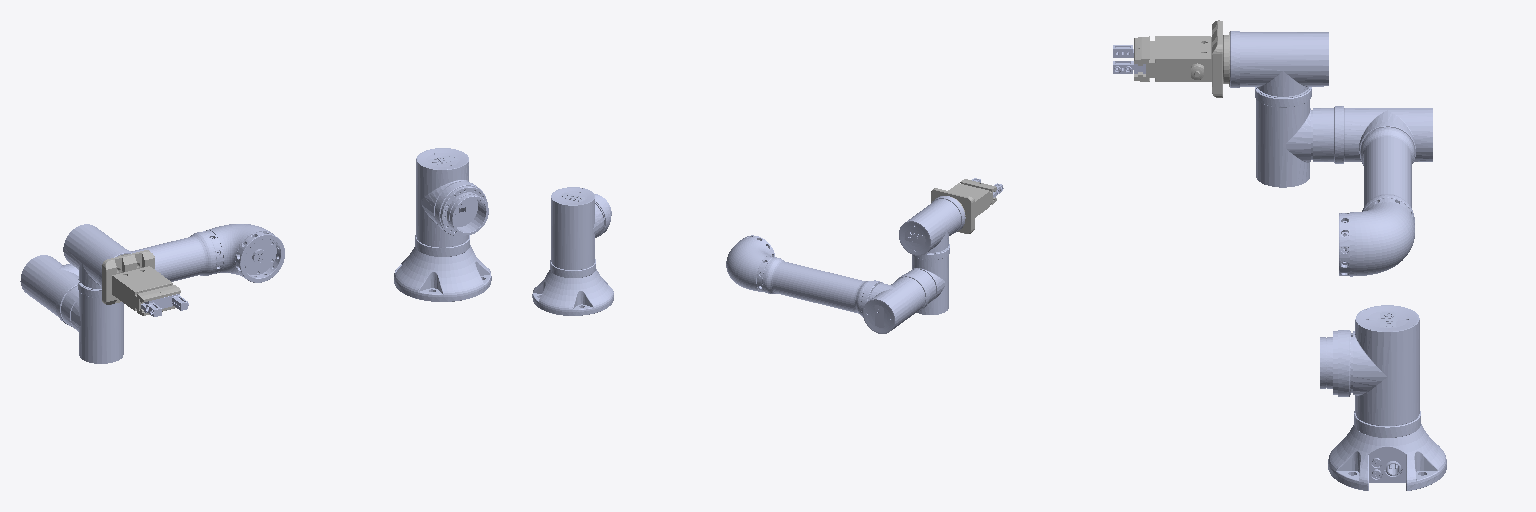
robot.urdf — CPC_arm:
<?xml version="1.0" encoding="utf-8"?>
<!-- This URDF was automatically created by SolidWorks to URDF Exporter! Originally created by Stephen Brawner (brawner@gmail.com) 
     Commit Version: 1.6.0-4-g7f85cfe  Build Version: 1.6.7995.38578
     For more information, please see http://wiki.ros.org/sw_urdf_exporter -->
<robot
  name="CPC_arm">
  <link
    name="base_link">
    <inertial>
      <origin
        xyz="-0.0224 -0.0006 0.2089"
        rpy="0 0 0" />
      <mass
        value="0.63188" />
      <inertia
        ixx="0.102289815"
        ixy="0.00076332"
        ixz="-0.002640239"
        iyy="0.092973861"
        iyz="-0.000256084"
        izz="0.103785739" />
    </inertial>
    <visual>
      <origin
        xyz="0 0 0"
        rpy="0 0 0" />
      <geometry>
        <mesh
          filename="../meshes/base_link.STL" />
      </geometry>
      <material
        name="">
        <color
          rgba="0.792156862745098 0.819607843137255 0.933333333333333 1" />
      </material>
    </visual>
    <collision>
      <origin
        xyz="0 0 0"
        rpy="0 0 0" />
      <geometry>
        <mesh
          filename="../meshes/base_link.STL" />
      </geometry>
    </collision>
  </link>
  <link
    name="link1">
    <inertial>
      <origin
        xyz="-0.0001172 -0.0038262 -0.0125403"
        rpy="0 0 0" />
      <mass
        value="1.12835" />
      <inertia
        ixx="0.00159391"
        ixy="0.00000759"
        ixz="-0.00000421"
        iyy="0.00152794"
        iyz="0.0000062"
        izz="0.00079827" />
    </inertial>
    <visual>
      <origin
        xyz="0 0 0"
        rpy="0 0 0" />
      <geometry>
        <mesh
          filename="../meshes/link1.STL" />
      </geometry>
      <material
        name="">
        <color
          rgba="0.792156862745098 0.819607843137255 0.933333333333333 1" />
      </material>
    </visual>
    <collision>
      <origin
        xyz="0 0 0"
        rpy="0 0 0" />
      <geometry>
        <mesh
          filename="../meshes/link1.STL" />
      </geometry>
    </collision>
  </link>
  <joint
    name="j1"
    type="revolute">
    <origin
      xyz="0.0070036 0 0.11343"
      rpy="0 0 0" />
    <parent
      link="base_link" />
    <child
      link="link1" />
    <axis
      xyz="0 0 1" />
    <limit
      lower="-6.28"
      upper="6.28"
      effort="147"
      velocity="6.28" />
    <dynamics
      damping="1"
      friction="4.41" />
  </joint>
  <link
    name="link2">
    <inertial>
      <origin
        xyz="-0.14309968 -0.00000222 0.01087225"
        rpy="0 0 0" />
      <mass
        value="2.71154" />
      <inertia
        ixx="0.00335039"
        ixy="-0.00001258"
        ixz="-0.00418653"
        iyy="0.10476835"
        iyz="-0.00000003"
        izz="0.10302838" />
    </inertial>
    <visual>
      <origin
        xyz="0 0 0"
        rpy="0 0 0" />
      <geometry>
        <mesh
          filename="../meshes/link2.STL" />
      </geometry>
      <material
        name="">
        <color
          rgba="0.792156862745098 0.819607843137255 0.933333333333333 1" />
      </material>
    </visual>
    <collision>
      <origin
        xyz="0 0 0"
        rpy="0 0 0" />
      <geometry>
        <mesh
          filename="../meshes/link2.STL" />
      </geometry>
    </collision>
  </link>
  <joint
    name="j2"
    type="revolute">
    <origin
      xyz="0 -0.106 0"
      rpy="-1.5708 0 0" />
    <parent
      link="link1" />
    <child
      link="link2" />
    <axis
      xyz="0 0 1" />
    <limit
      lower="-6.28"
      upper="6.28"
      effort="147"
      velocity="6.28" />
    <dynamics
      damping="1"
      friction="4.41" />
  </joint>
  <link
    name="link3">
    <inertial>
      <origin
        xyz="-0.17902463 0.00003247 -0.00767604"
        rpy="0 0 0" />
      <mass
        value="1.4489978" />
      <inertia
        ixx="0.00118048"
        ixy="-0.00001133"
        ixz="0.00177917"
        iyy="0.06408886"
        iyz="-0.00000068"
        izz="0.06361472" />
    </inertial>
    <visual>
      <origin
        xyz="0 0 0"
        rpy="0 0 0" />
      <geometry>
        <mesh
          filename="../meshes/link3.STL" />
      </geometry>
      <material
        name="">
        <color
          rgba="0.792156862745098 0.819607843137255 0.933333333333333 1" />
      </material>
    </visual>
    <collision>
      <origin
        xyz="0 0 0"
        rpy="0 0 0" />
      <geometry>
        <mesh
          filename="../meshes/link3.STL" />
      </geometry>
    </collision>
  </link>
  <joint
    name="j3"
    type="revolute">
    <origin
      xyz="-0.284 0 0.106"
      rpy="0 0 0" />
    <parent
      link="link2" />
    <child
      link="link3" />
    <axis
      xyz="0 0 1" />
    <limit
      lower="-6.28"
      upper="6.28"
      effort="147"
      velocity="6.28" />
    <dynamics
      damping="1"
      friction="4.41" />
  </joint>
  <link
    name="link4">
    <inertial>
      <origin
        xyz="0.00003782 -0.01056578 0.04621724"
        rpy="0 0 0" />
      <mass
        value="1.373096" />
      <inertia
        ixx="0.01143465"
        ixy="-0.00000522"
        ixz="-0.00000008"
        iyy="0.01050102"
        iyz="-0.00000229"
        izz="0.00150302" />
    </inertial>
    <visual>
      <origin
        xyz="0 0 0"
        rpy="0 0 0" />
      <geometry>
        <mesh
          filename="../meshes/link4.STL" />
      </geometry>
      <material
        name="">
        <color
          rgba="0.792156862745098 0.819607843137255 0.933333333333333 1" />
      </material>
    </visual>
    <collision>
      <origin
        xyz="0 0 0"
        rpy="0 0 0" />
      <geometry>
        <mesh
          filename="../meshes/link4.STL" />
      </geometry>
    </collision>
  </link>
  <joint
    name="j4"
    type="revolute">
    <origin
      xyz="-0.262 0 -0.1055"
      rpy="0 0 0" />
    <parent
      link="link3" />
    <child
      link="link4" />
    <axis
      xyz="0 0 1" />
    <limit
      lower="-6.28"
      upper="6.28"
      effort="206"
      velocity="6.28" />
    <dynamics
      damping="1"
      friction="6.17" />
  </joint>
  <link
    name="link5">
    <inertial>
      <origin
        xyz="-0.00003079 -0.00420127 -0.0446452"
        rpy="0 0 0" />
      <mass
        value="1.102075" />
      <inertia
        ixx="0.00830005"
        ixy="0.00000002"
        ixz="0.00000051"
        iyy="0.00798747"
        iyz="0.00000412"
        izz="0.00077742" />
    </inertial>
    <visual>
      <origin
        xyz="0 0 0"
        rpy="0 0 0" />
      <geometry>
        <mesh
          filename="../meshes/link5.STL" />
      </geometry>
      <material
        name="">
        <color
          rgba="0.792156862745098 0.819607843137255 0.933333333333333 1" />
      </material>
    </visual>
    <collision>
      <origin
        xyz="0 0 0"
        rpy="0 0 0" />
      <geometry>
        <mesh
          filename="../meshes/link5.STL" />
      </geometry>
    </collision>
  </link>
  <joint
    name="j5"
    type="revolute">
    <origin
      xyz="0 -0.0843 0"
      rpy="1.5708 0 0" />
    <parent
      link="link4" />
    <child
      link="link5" />
    <axis
      xyz="0 0 1" />
    <limit
      lower="-6.28"
      upper="6.28"
      effort="206"
      velocity="6.28" />
    <dynamics
      damping="1"
      friction="6.17" />
  </joint>
  <link
    name="link6">
    <inertial>
      <origin
        xyz="0.00021593 -0.00013489 -0.04486630"
        rpy="0 0 0" />
      <mass
        value="0.411" />
      <inertia
        ixx="0.00118776"
        ixy="-0.00000017"
        ixz="-0.00000410"
        iyy="0.00125861"
        iyz="0.00000079"
        izz="0.00017194" />
    </inertial>
    <visual>
      <origin
        xyz="0 0 0"
        rpy="0 0 0" />
      <geometry>
        <mesh
          filename="../meshes/link6.STL" />
      </geometry>
      <material
        name="">
        <color
          rgba="0.752941176470588 0.752941176470588 0.752941176470588 1" />
      </material>
    </visual>
    <collision>
      <origin
        xyz="0 0 0"
        rpy="0 0 0" />
      <geometry>
        <mesh
          filename="../meshes/link6.STL" />
      </geometry>
    </collision>
  </link>
  <joint
    name="j6"
    type="revolute">
    <origin
      xyz="0 -0.042 0"
      rpy="-1.5708 0 0" />
    <parent
      link="link5" />
    <child
      link="link6" />
    <axis
      xyz="0 0 1" />
    <limit
      lower="-6.28"
      upper="6.28"
      effort="205"
      velocity="6.28" />
    <dynamics
      damping="1"
      friction="6.17" />
  </joint>
  <link
    name="f1">
    <inertial>
      <origin
        xyz="-0.0160823907318424 -0.00228106756590477 -0.0115426550774786"
        rpy="0 0 0" />
      <mass
        value="0.01270168" />
      <inertia
        ixx="0.00000296"
        ixy="0.00000062"
        ixz="0.00000158"
        iyy="0.00000824"
        iyz="0.00000018"
        izz="0.00000561" />
    </inertial>
    <visual>
      <origin
        xyz="0 0 0"
        rpy="0 0 0" />
      <geometry>
        <mesh
          filename="../meshes/f1.STL" />
      </geometry>
      <material
        name="">
        <color
          rgba="0.792156862745098 0.819607843137255 0.933333333333333 1" />
      </material>
    </visual>
    <collision>
      <origin
        xyz="0 0 0"
        rpy="0 0 0" />
      <geometry>
        <mesh
          filename="../meshes/f1.STL" />
      </geometry>
    </collision>
  </link>
  <joint
    name="f1"
    type="prismatic">
    <origin
      xyz="0.024161 0 -0.0965"
      rpy="0 0 0" />
    <parent
      link="link6" />
    <child
      link="f1" />
    <axis
      xyz="1 0 0" />
    <limit
      lower="-0.01165"
      upper="0"
      effort="1000"
      velocity="10" />
    <dynamics
      damping="0.0"
      friction="3.0" />
  </joint>
  <link
    name="f2">
    <inertial>
      <origin
        xyz="0.016082390731853 0.00228106728736446 -0.0115426550752589"
        rpy="0 0 0" />
      <mass
        value="0.01270168" />
      <inertia
        ixx="0.00000296"
        ixy="0.00000062"
        ixz="-0.00000158"
        iyy="0.00000824"
        iyz="-0.00000018"
        izz="0.00000561" />
    </inertial>
    <visual>
      <origin
        xyz="0 0 0"
        rpy="0 0 0" />
      <geometry>
        <mesh
          filename="../meshes/f2.STL" />
      </geometry>
      <material
        name="">
        <color
          rgba="0.792156862745098 0.819607843137255 0.933333333333333 1" />
      </material>
    </visual>
    <collision>
      <origin
        xyz="0 0 0"
        rpy="0 0 0" />
      <geometry>
        <mesh
          filename="../meshes/f2.STL" />
      </geometry>
    </collision>
  </link>
  <joint
    name="f2"
    type="prismatic">
    <origin
      xyz="-0.024161 0 -0.0965"
      rpy="0 0 0" />
    <parent
      link="link6" />
    <child
      link="f2" />
    <axis
      xyz="-1 0 0" />
    <limit
      lower="-0.01165"
      upper="0"
      effort="1000"
      velocity="10" />
    <dynamics
      damping="0.0"
      friction="3.0" />
  </joint>
</robot>

--- Render facts (derived) ---
Views: 3 orthographic renders of the robot side by side, from view 1: azimuth 30°, elevation 25°; view 2: azimuth 150°, elevation 25°; view 3: azimuth 270°, elevation 25°.
Robot: CPC_arm — 9 links, 8 joints (6 revolute, 2 prismatic); root link base_link; default pose: every joint at zero.
Links seen in each view (by area): view 1: link3, link1, base_link, link4, link6, link5; view 2: link3, link1, base_link, link5, link4, link6; view 3: link3, link1, base_link, link4, link5, link6.
Link boxes in pixels (x1,y1,x2,y2): link3: [20, 224, 284, 326]; link1: [416, 148, 488, 247]; base_link: [394, 235, 491, 301]; link4: [61, 279, 123, 363]; link6: [102, 250, 180, 315]; link5: [63, 224, 132, 290]; link3: [726, 235, 929, 333]; link1: [551, 187, 611, 269]; base_link: [532, 259, 613, 315]; link5: [899, 196, 965, 255]; link4: [906, 244, 949, 314]; link6: [931, 179, 996, 233]; link3: [1334, 106, 1432, 276]; link1: [1320, 305, 1419, 425]; base_link: [1328, 411, 1446, 490]; link4: [1255, 87, 1333, 187]; link5: [1230, 31, 1328, 97]; link6: [1134, 20, 1229, 97].
Bounding box of the posed robot: 0.6377 × 0.3375 × 0.2313 m (x, y, z).
Meshes: 9 distinct files referenced, 8 mesh visuals loaded (8 binary STL); not drawn: 1 (reference not matched to a file when rendering).
